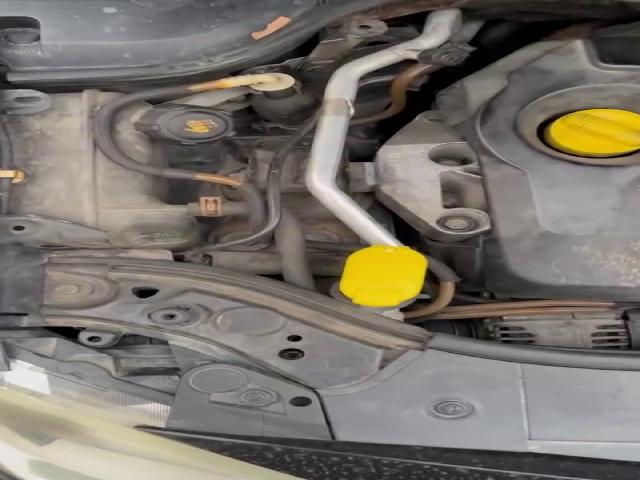antifreeze_tank: (4, 90, 197, 248), (113, 101, 234, 166)
